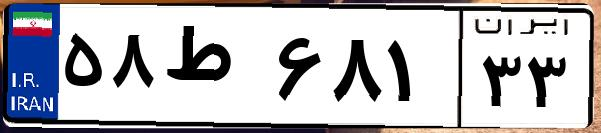1: (385, 28, 445, 110)
3: (475, 38, 525, 113), (525, 38, 570, 115)
5: (57, 26, 110, 100)
6: (270, 28, 330, 110)
8: (330, 28, 385, 110), (110, 28, 158, 98)
ط: (158, 20, 270, 120)
